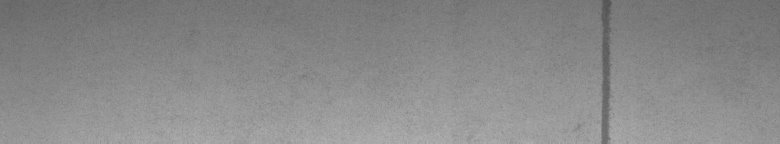hd: (574, 4, 616, 136)
